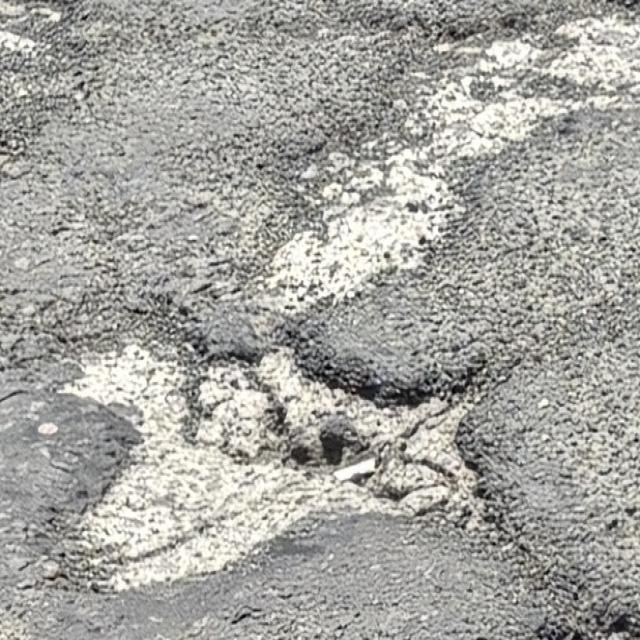pothole: (66, 310, 558, 567)
